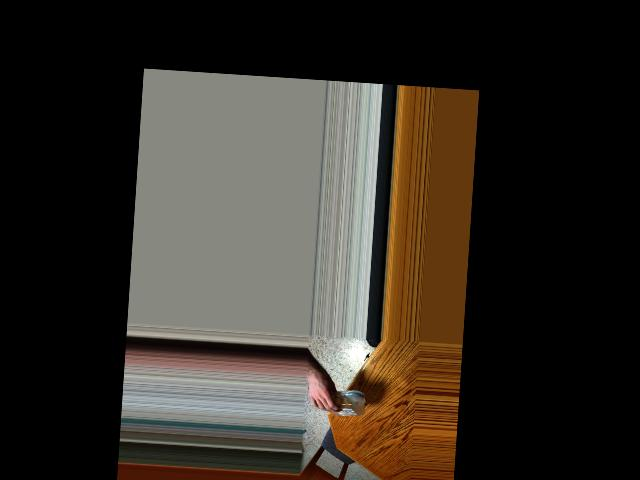cheese: (326, 372, 367, 426)
